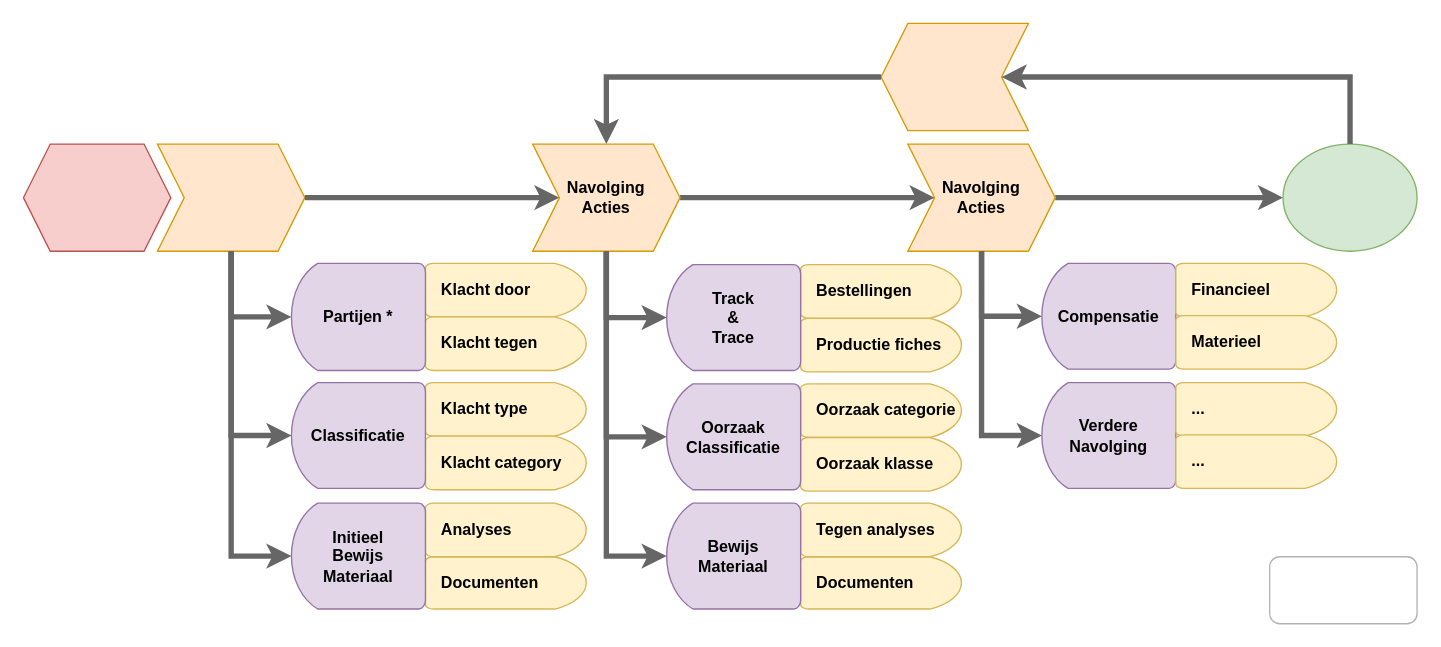
Some shapes in this 1441 by 647 pixel diagram are drawn without their labels. The shapes that lost their labels are listed below. From the top down, each one's box as (x1, y1, x2, y2) in pixels, then its label:
(880, 22, 1028, 131): Heropenen Klacht
(22, 143, 171, 251): Klacht (claim)
(156, 143, 305, 251): Omschrijving Klacht
(1282, 143, 1417, 251): Klacht Afgehandeld
(1268, 555, 1417, 624): * klacht kan ook vanuit bedrijf tegen leverancier zijn
